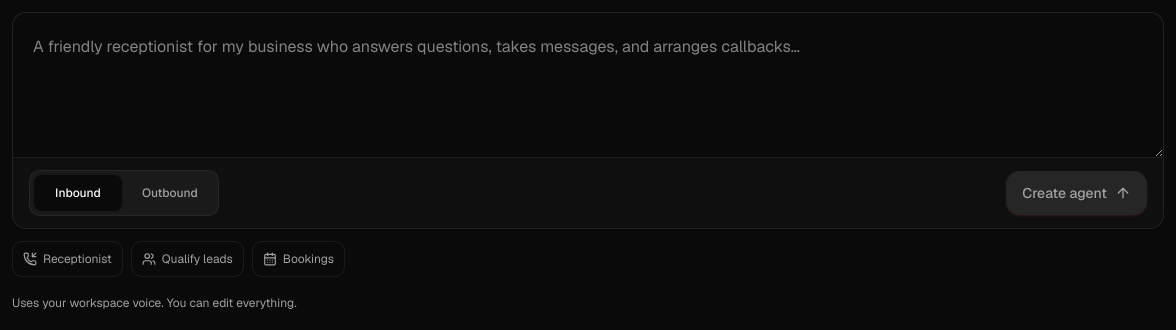
QuickAgentComposer setup recovery › blocks repeated submits while creation is pending
Replace the text in the text box named "Describe your agent" with "A friendly HVAC receptionist who collects callback details.": (588, 85) [13,13,1163,157]
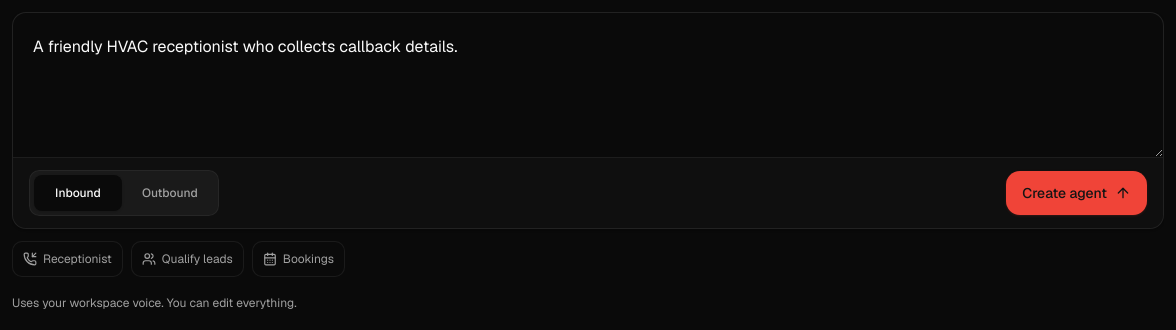
Submit the form named "Quick agent setup"
Submit the form named "Quick agent setup"
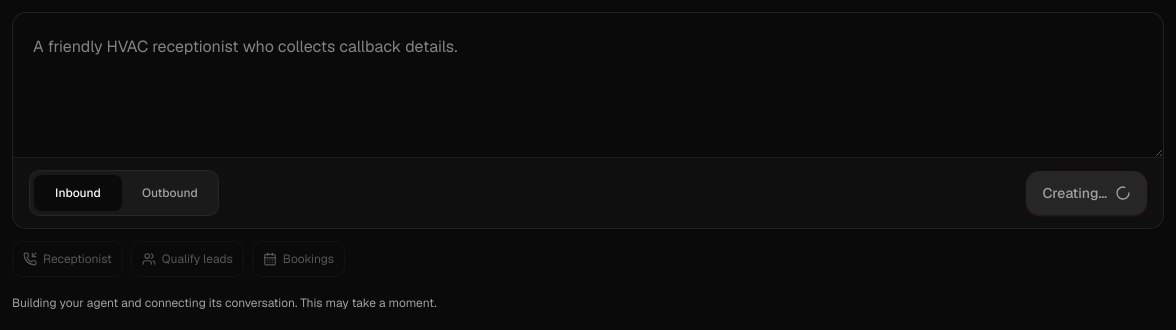
Expected: the text box named "Describe your agent" is disabled, [13,13,1163,157]
